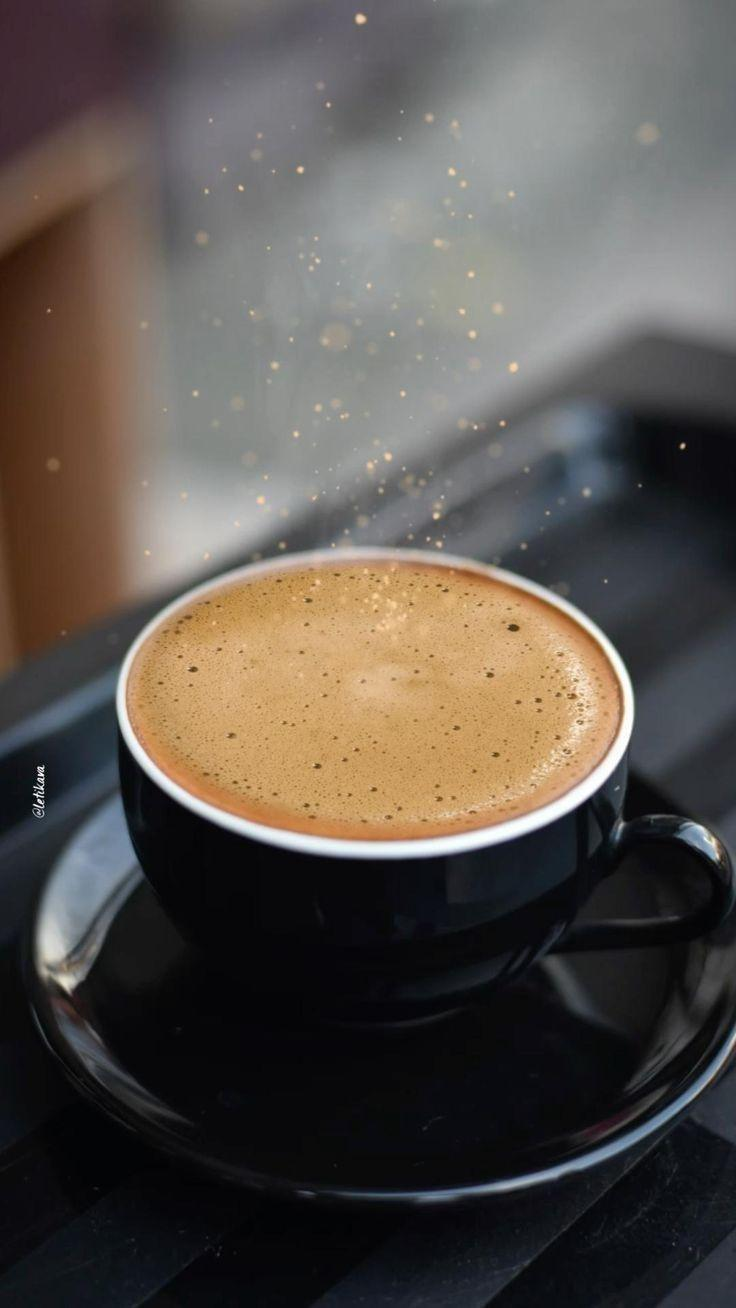cup-handle: (114, 546, 733, 1032)
